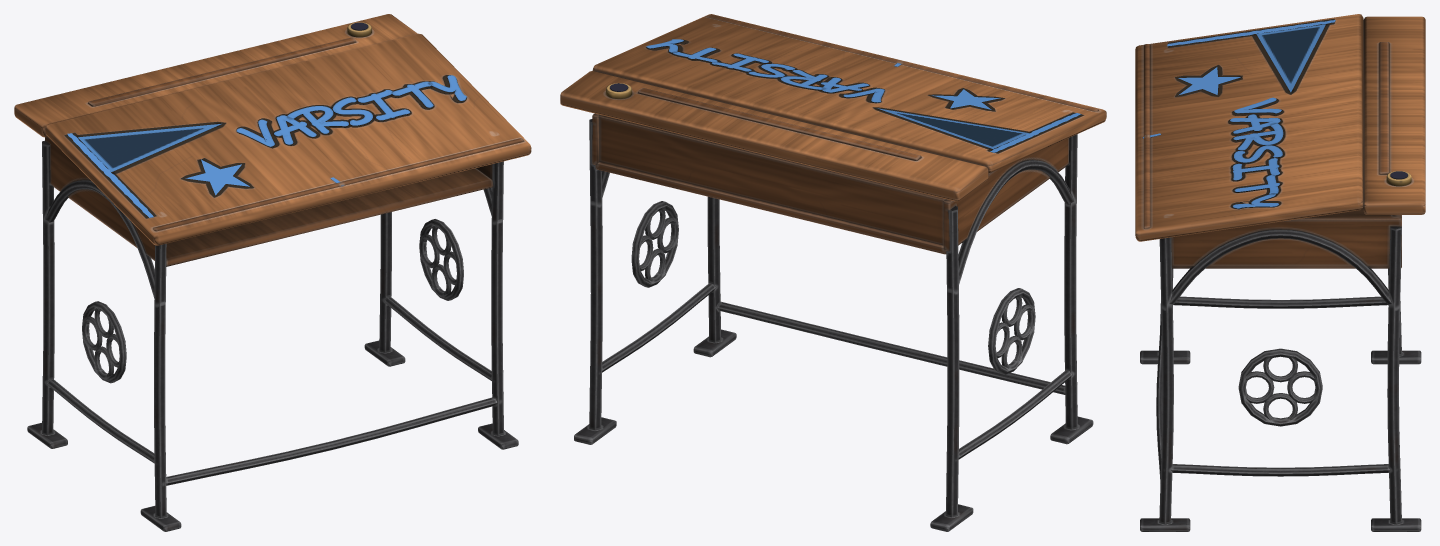
The model's file is StudentDeskPrankAthletes.fbx.
3 views of the same model, side by side, from view 1: azimuth 30°, elevation 25°; view 2: azimuth 150°, elevation 25°; view 3: azimuth 270°, elevation 25° (orthographic). The views are drawn at different scales.
Parts seen in each view (by area): view 1: StudentDeskPrankAthletes; view 2: StudentDeskPrankAthletes; view 3: StudentDeskPrankAthletes.
Boxes of the visible parts, left/top/right/bottom form: StudentDeskPrankAthletes: left=14, top=14, right=531, bottom=531; StudentDeskPrankAthletes: left=560, top=14, right=1106, bottom=531; StudentDeskPrankAthletes: left=1135, top=14, right=1425, bottom=531.
Size of the model in its own units: 300 by 255 by 196.
